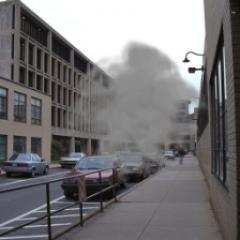smoke: (60, 39, 214, 184)
